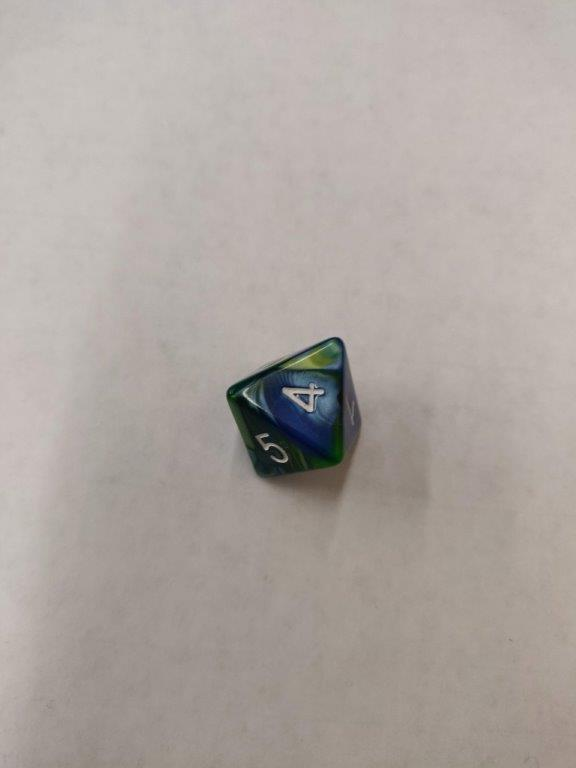d8-4: (223, 334, 366, 483)
